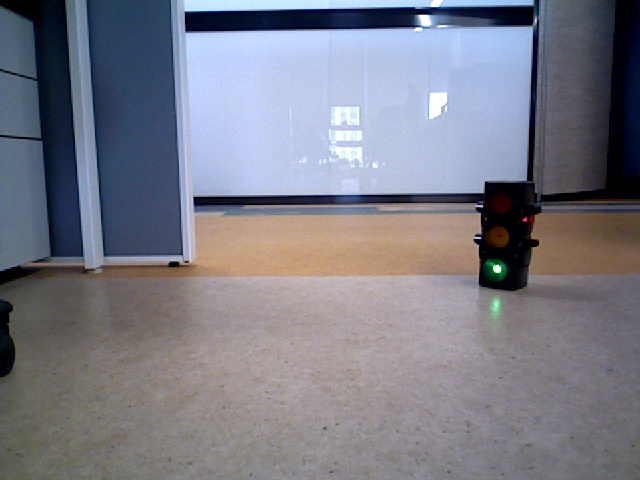green: (482, 183, 525, 286)
